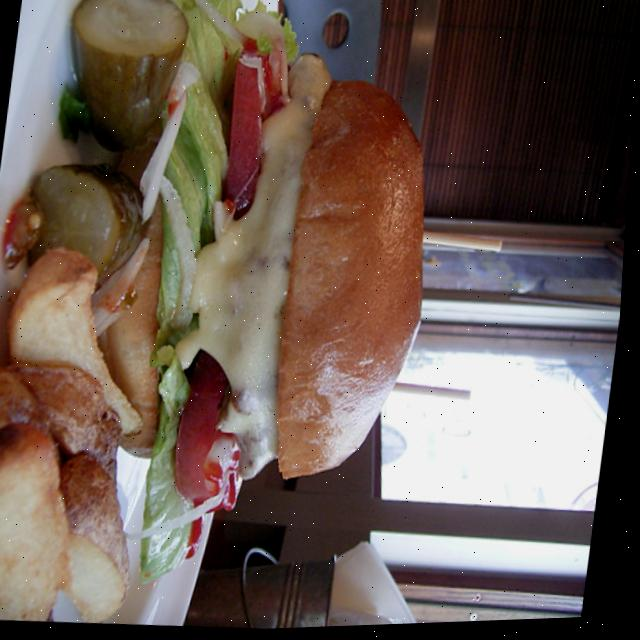汉堡快餐: (101, 51, 465, 490)
炸货点心: (0, 238, 195, 631)
